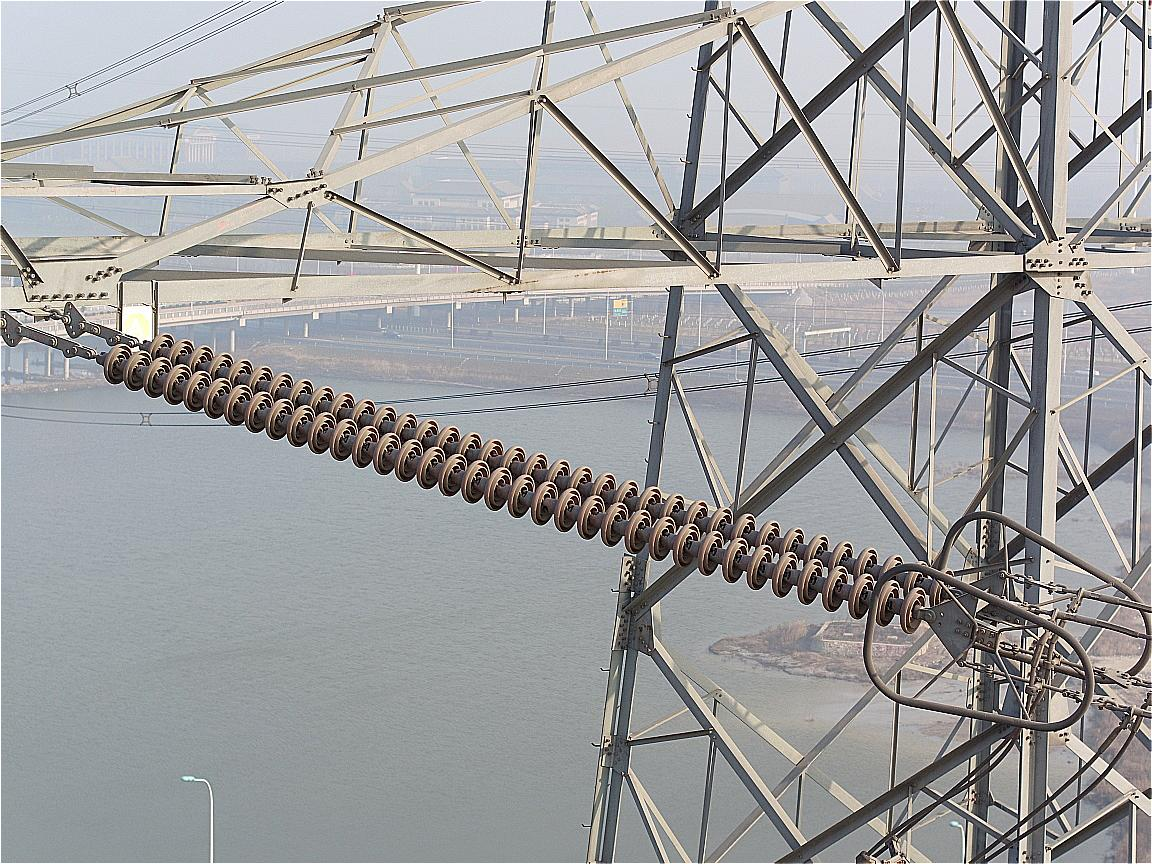insultor1: (102, 332, 955, 634)
